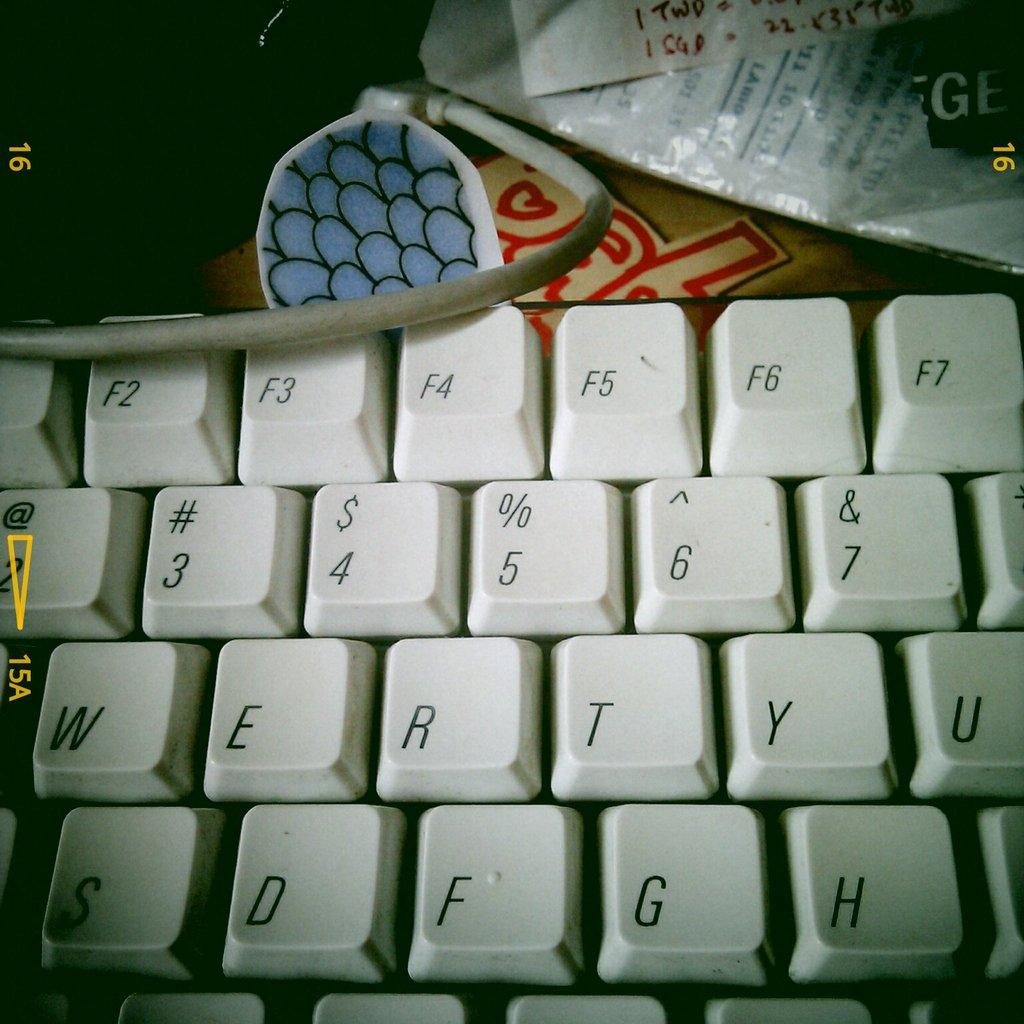Computer-keyboard: (0, 294, 1023, 1023)
